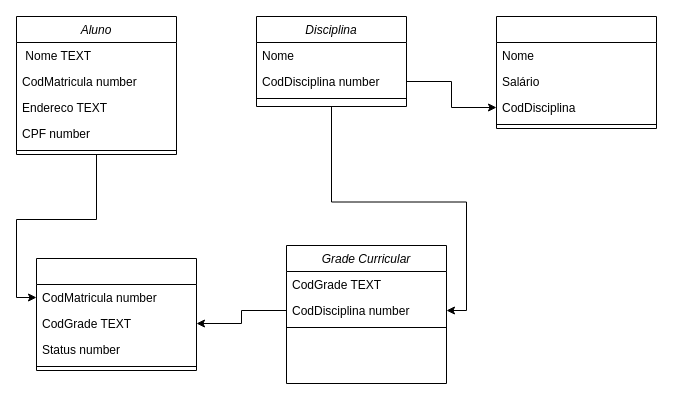
The diagram is 673 pixels wide and 400 high, and some of its shapes have lost their labels. The shapes that lost their labels are listed below. From the top down, each one's box as (x1, y1, x2, y2) in pixels, then its label:
(496, 16, 656, 128): Professor
(36, 258, 196, 370): Matrícula
